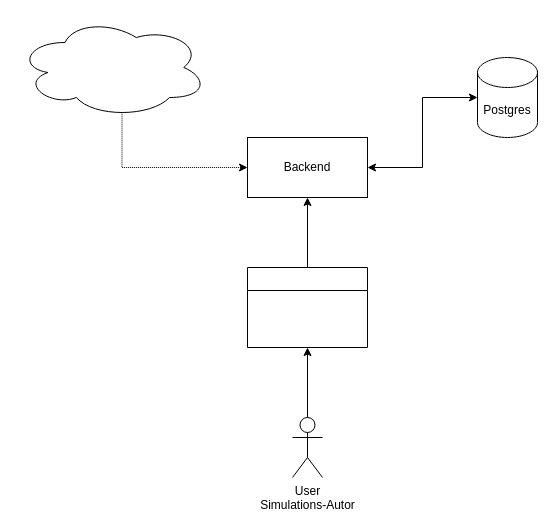
The diagram is 555 pixels wide and 531 high, and some of its shapes have lost their labels. Here are the shapes that lost their labels. From the top down, the box of each, then its label:
(16, 16, 208, 118): Web RSS, Websites,...
(246, 266, 368, 348): GUI
